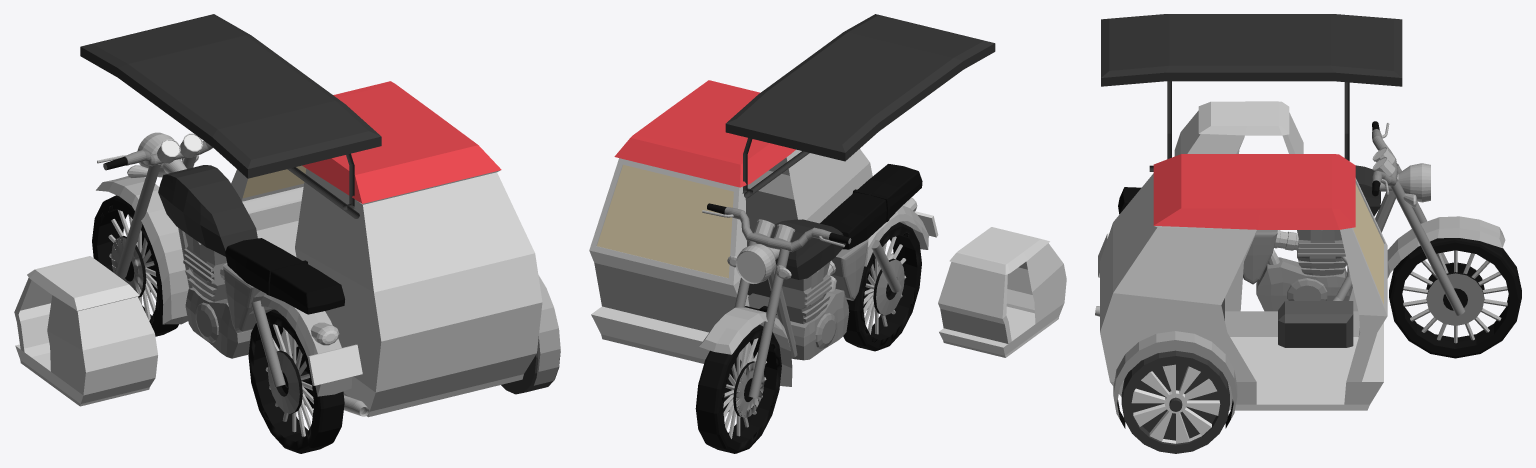
File: tricy.fbx
The picture shows the model from 3 angles, left to right: view 1: azimuth 30°, elevation 25°; view 2: azimuth 150°, elevation 25°; view 3: azimuth 270°, elevation 25°; orthographic projection. The views are drawn at different scales.
Parts seen in each view (by area): view 1: Cylinder.002, backup; view 2: Cylinder.002, backup; view 3: Cylinder.002, backup.
Boxes of the visible parts, <box> form: Cylinder.002: <box>80,14,560,453</box>; backup: <box>14,256,157,406</box>; Cylinder.002: <box>589,14,995,453</box>; backup: <box>938,227,1066,357</box>; Cylinder.002: <box>1095,14,1521,453</box>; backup: <box>1174,101,1303,156</box>.
Bounding box in the file's own units: 2461 × 1778 × 2258.
